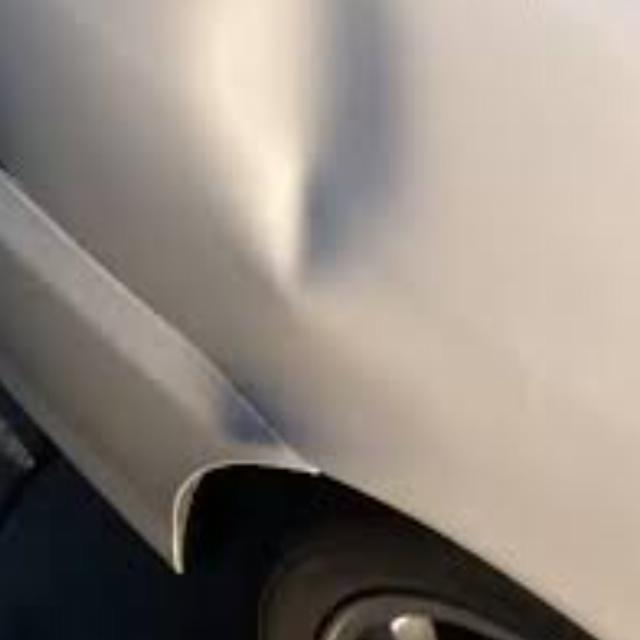dents: (201, 0, 439, 319)
